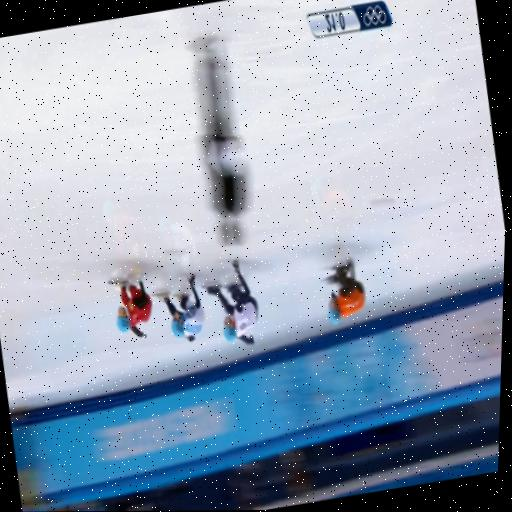Skater: (206, 259, 258, 344), (154, 273, 205, 340), (111, 271, 152, 337), (325, 260, 365, 323)
